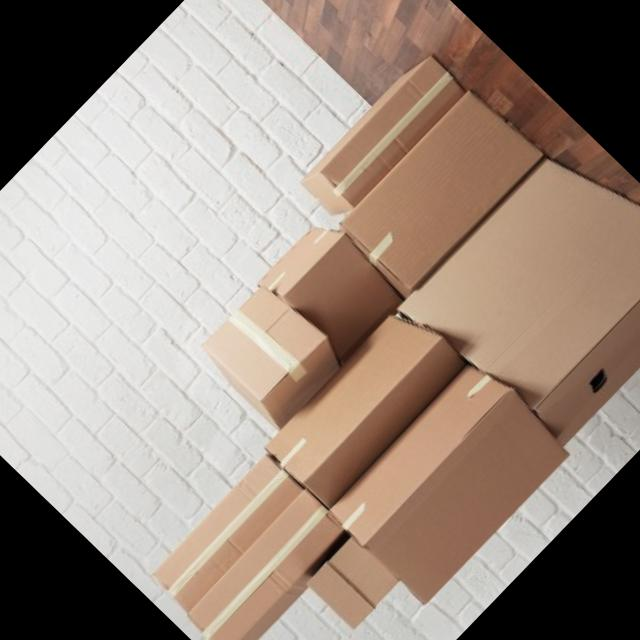Kardus: (21, 12, 640, 640), (394, 123, 640, 462), (320, 354, 580, 616), (332, 82, 548, 300), (260, 297, 474, 515), (145, 453, 351, 640), (298, 51, 466, 222), (190, 276, 351, 438), (250, 211, 408, 369), (308, 536, 402, 630)
